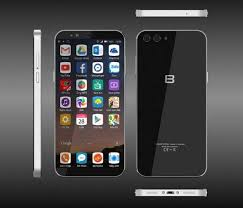bphone: (133, 27, 208, 180), (51, 25, 126, 178)
